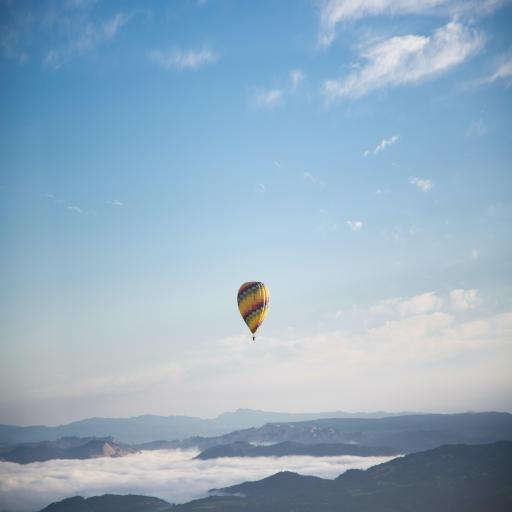hot air ballon: (236, 276, 269, 345)
